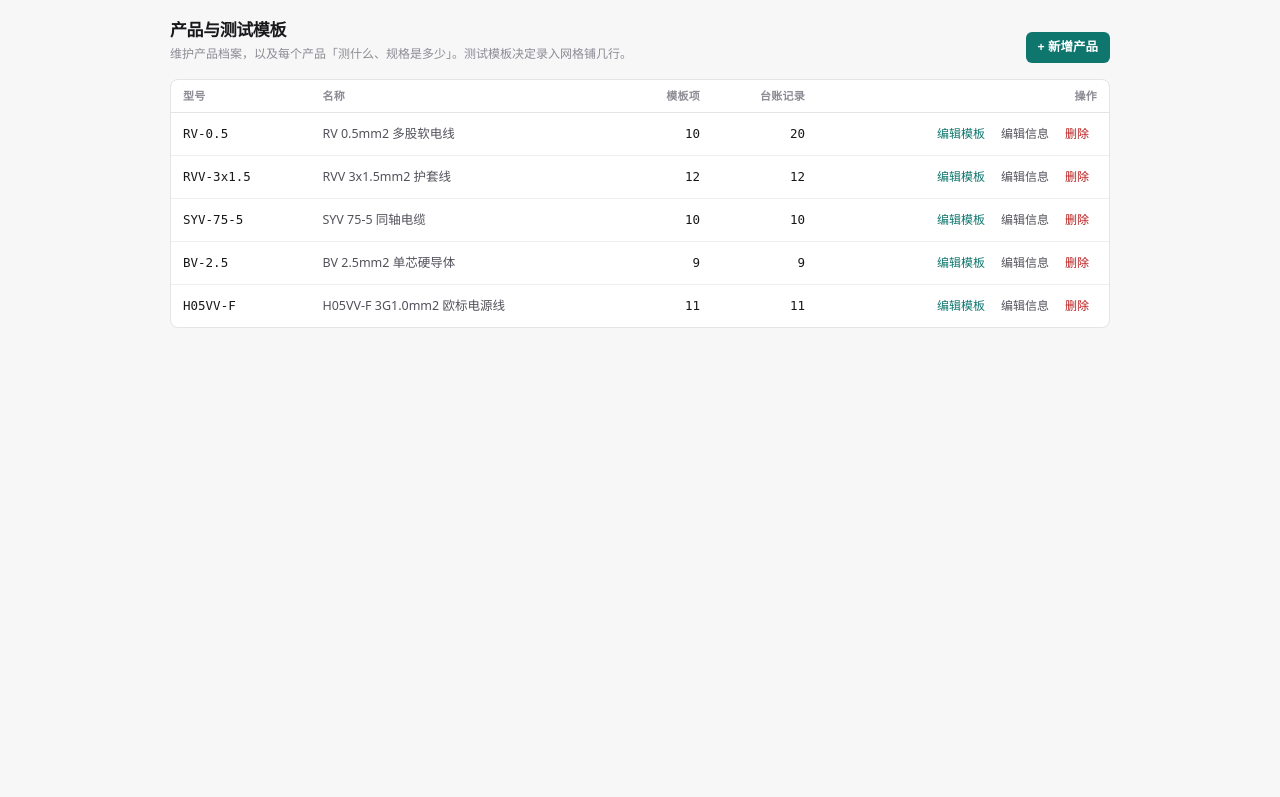
Test: 工单 05 — 产品与测试模板管理 › 把一个产品的测试模板整体复制到另一个产品
Step 1. Click the button "编辑模板" in the row of "BV-2.5" → (961, 263), box [929,250,993,276]
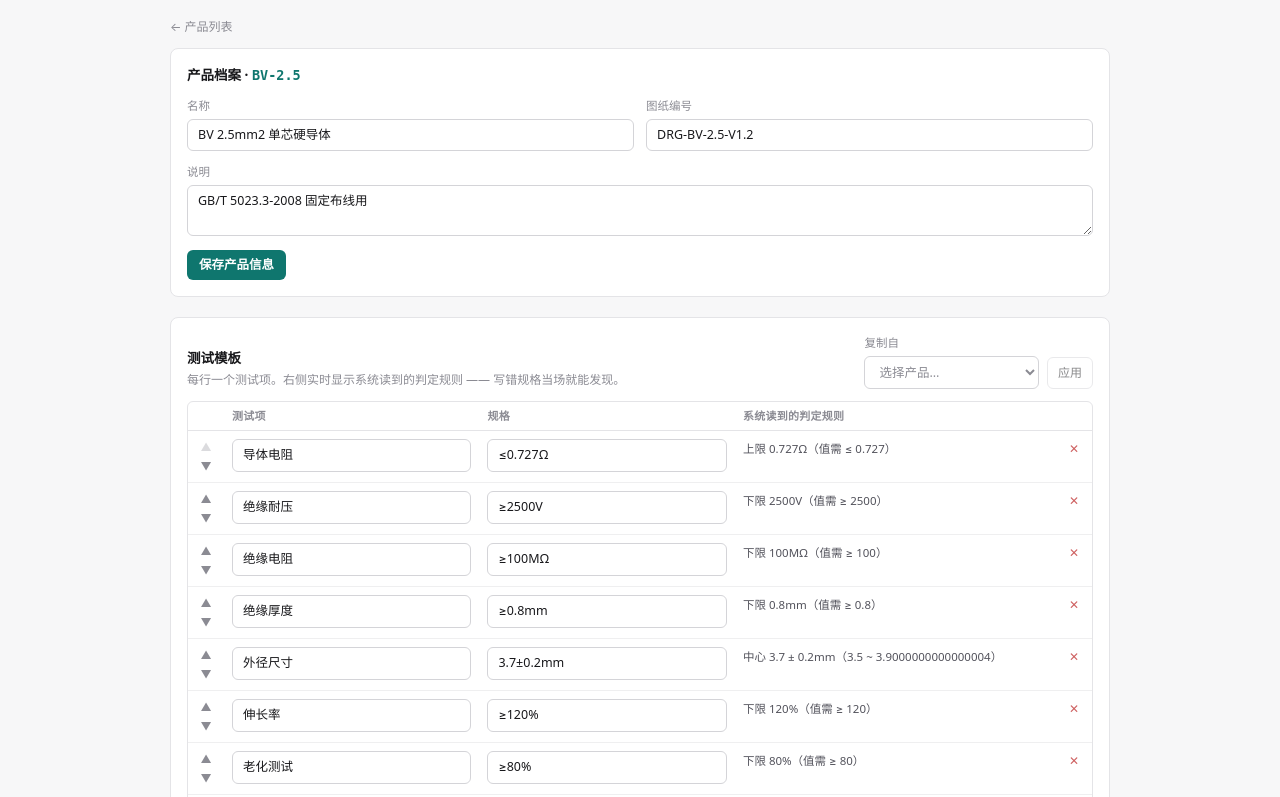
Expected: the heading "测试模板" is shown, [187,349,241,367]
Step 2. Select "SYV-75-5" in the dropdown → (952, 372), box [864,356,1039,388]
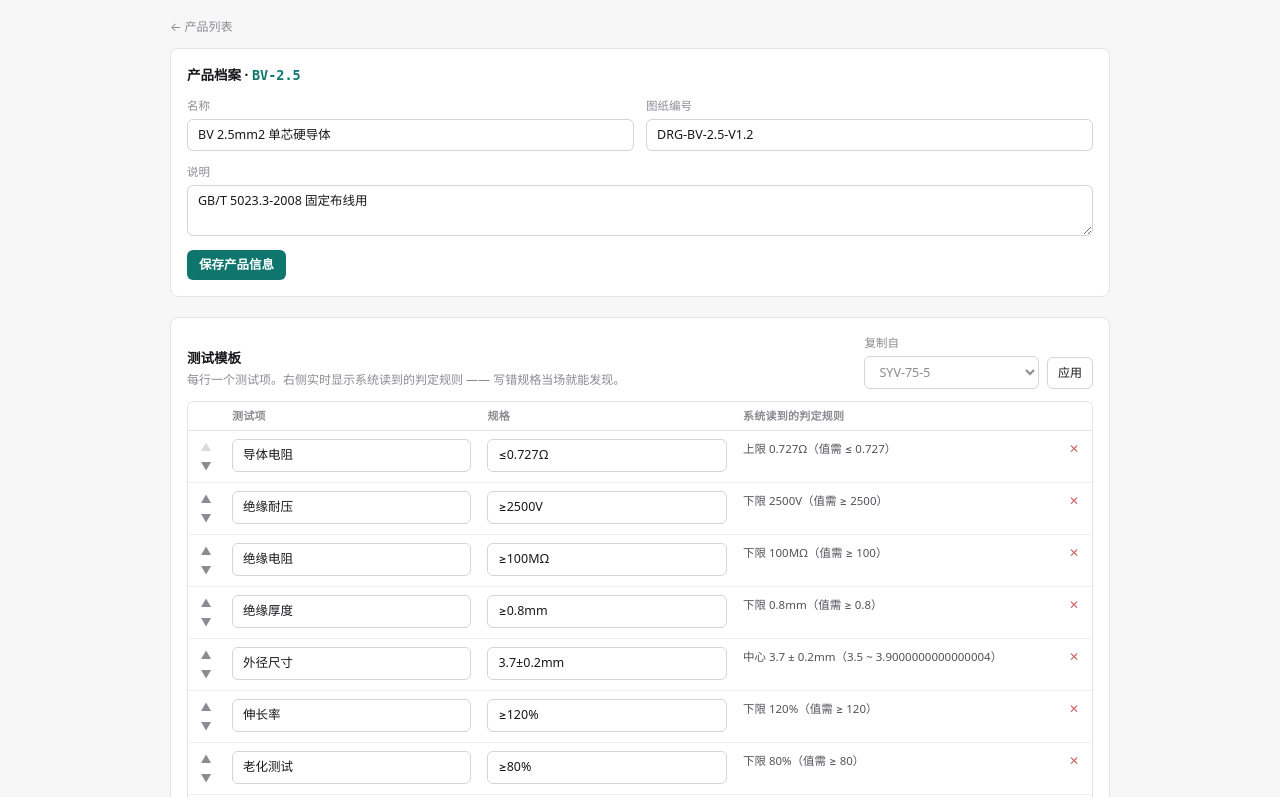
Step 3. Click the button "应用" → (1070, 372), box [1047,356,1093,388]
(page scrolled)
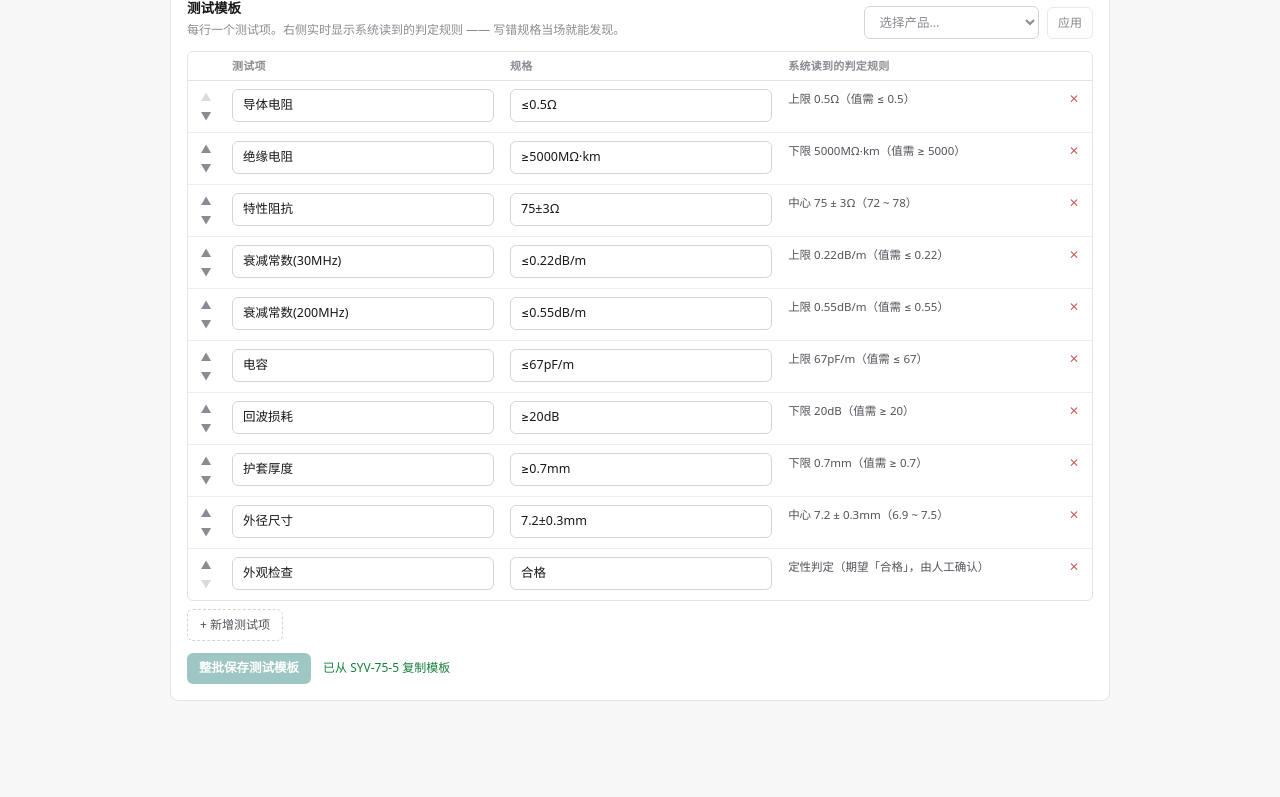
Expected: the text "已从 SYV-75-5 复制模板" is shown, [323,659,450,677]
